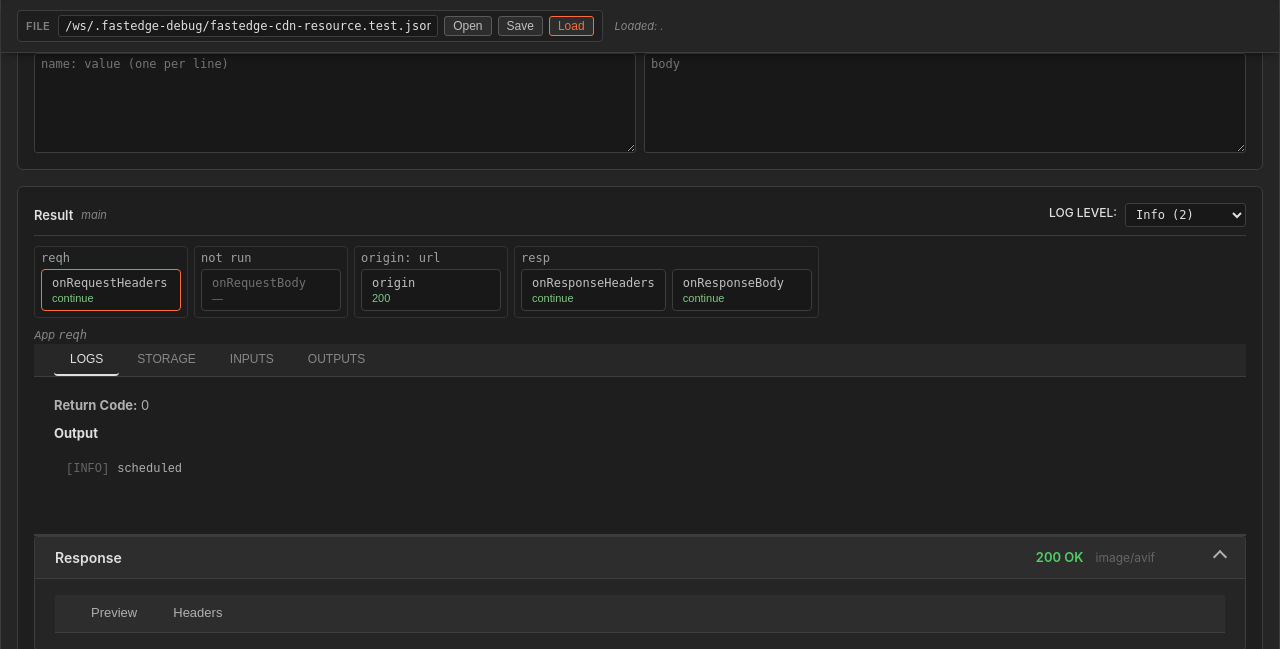
Test: ResourceView › groups the flow's steps by app and shows a hook's detail as in the Debugger
(page scrolled)
Check: the element named "Flow" is shown, box [34,246,819,318]
Check: the text "[INFO]scheduled" is shown, box [66,462,182,476]
Click the tab "Outputs".
click(336, 360)  # box [292,344,381,376]
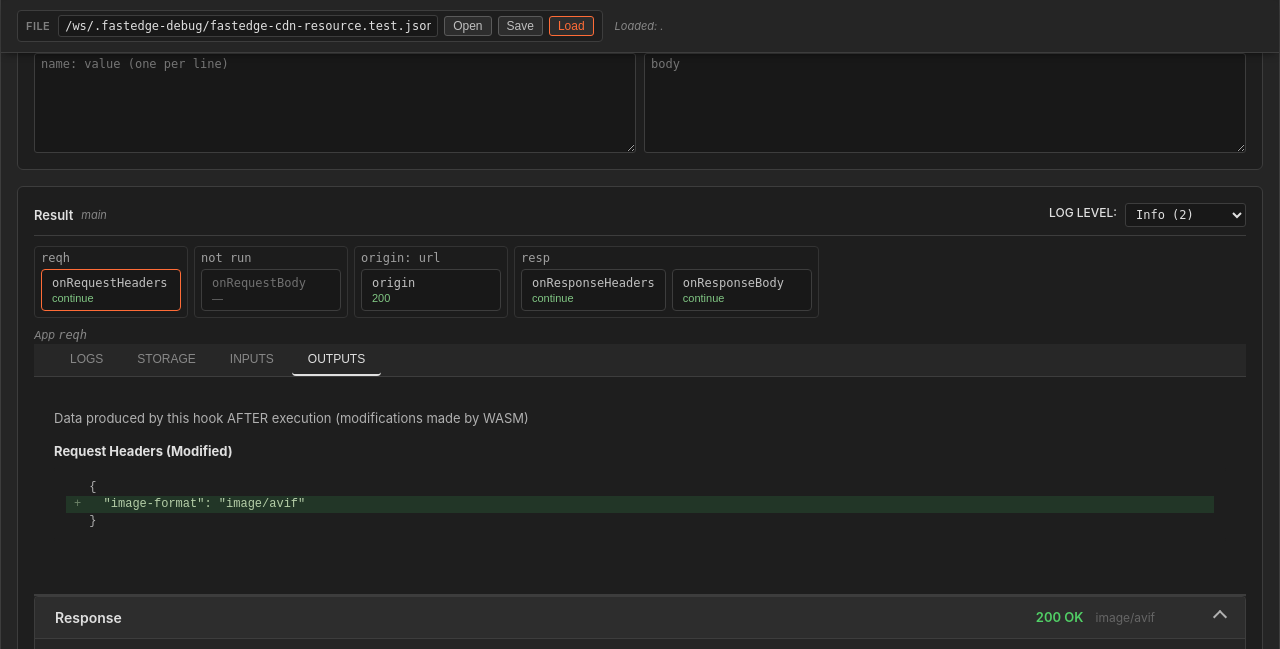
Check: the heading "Request Headers (Modified)" is shown, box [54,443,233,459]
Note: The Debugger's log level applies: a TRACE log is hidden at the default level (INFO).
Click the tab "onResponseBody continue".
click(742, 290)  # box [672,269,812,311]
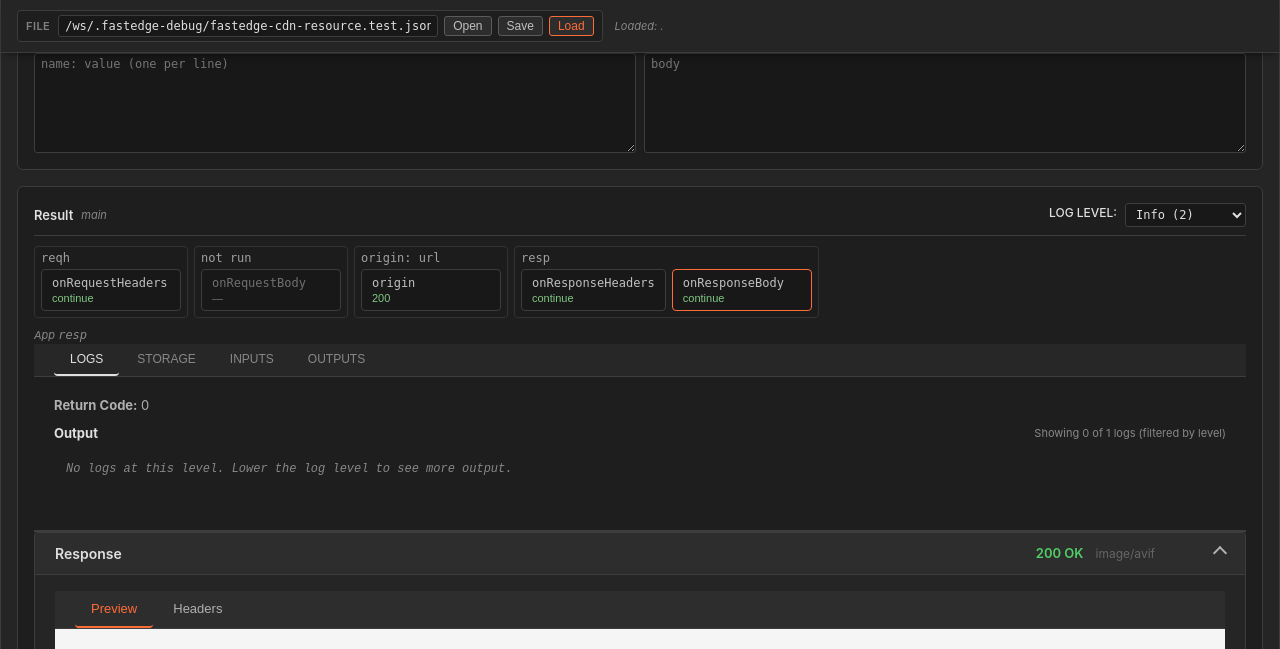
Check: the text "No logs at this level" is shown, box [66,462,512,476]
Click the tab "Outputs".
click(336, 360)  # box [292,344,381,376]
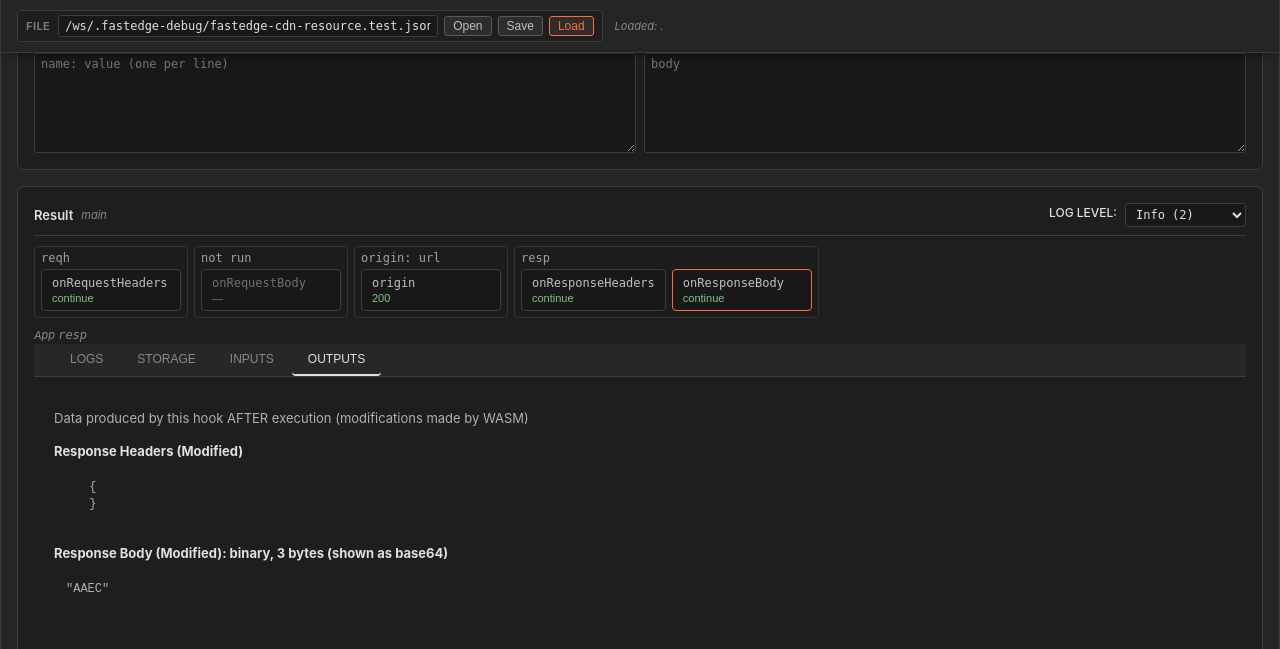
Check: the heading "Response Body (Modified): binary, 3 bytes (shown as base64)" is shown, box [54,545,448,561]
